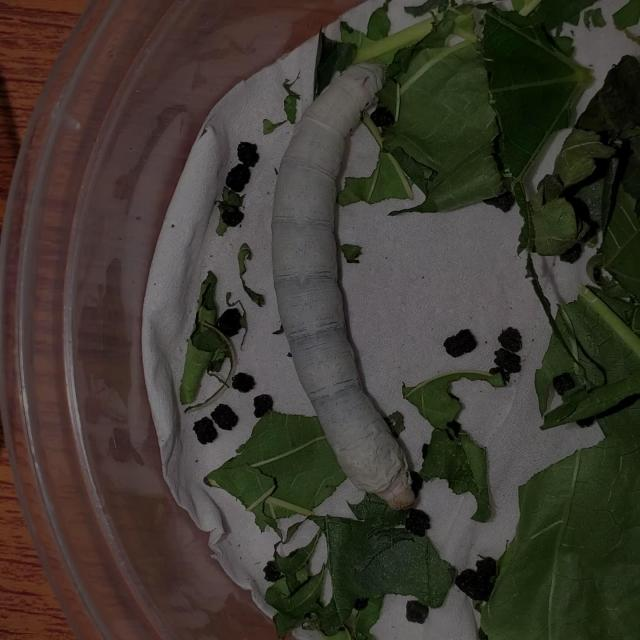Healthy: (243, 41, 461, 532)
